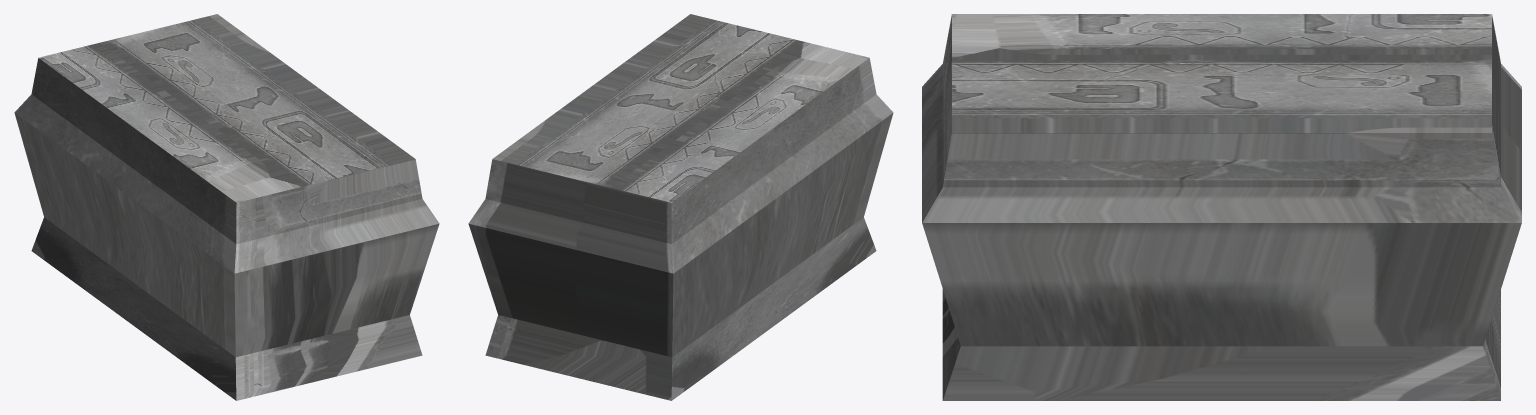
Rendered from sb_obj_ruins011_StoneCoffin_col.fbx.
3 renders of one model, left to right at view 1: azimuth 30°, elevation 25°; view 2: azimuth 150°, elevation 25°; view 3: azimuth 270°, elevation 25°, orthographic. The views are drawn at different scales.
Visible parts, largest first — view 1: sb_obj_ruins011_StoneCoffin_col; view 2: sb_obj_ruins011_StoneCoffin_col; view 3: sb_obj_ruins011_StoneCoffin_col.
Boxes of the visible parts, <box> form: sb_obj_ruins011_StoneCoffin_col: <box>14,14,439,400</box>; sb_obj_ruins011_StoneCoffin_col: <box>468,14,893,400</box>; sb_obj_ruins011_StoneCoffin_col: <box>922,14,1521,400</box>.
Size of the model in its own units: 0.9483 by 0.8613 by 1.76.
